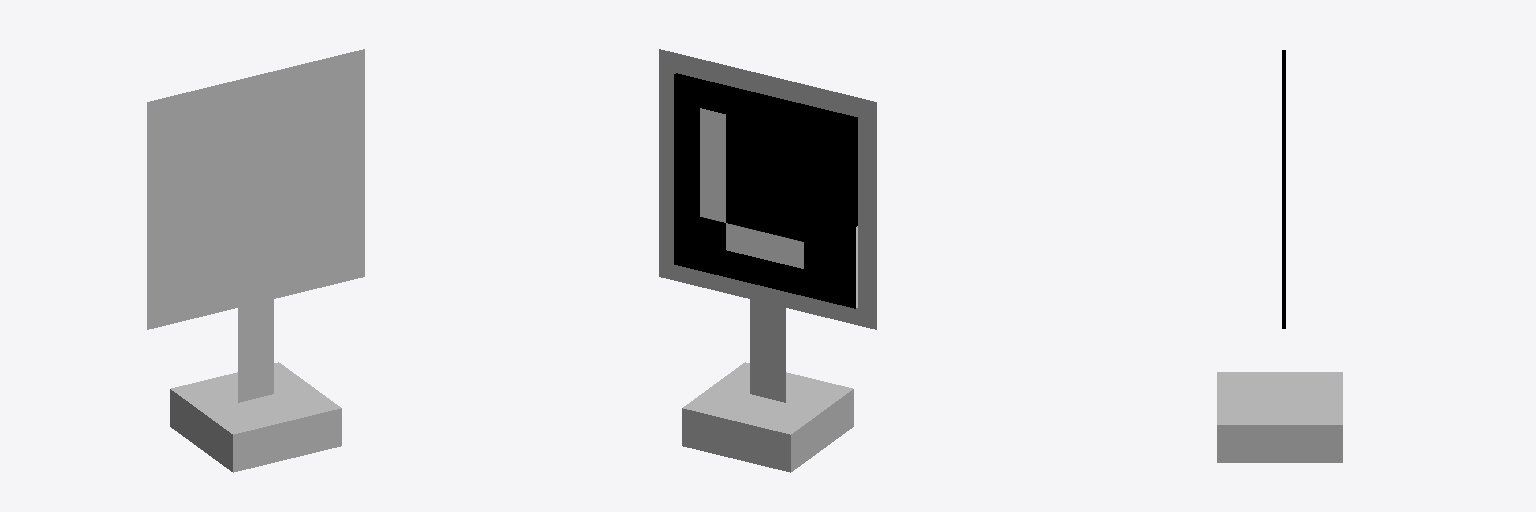
3 views of the same model, side by side, from view 1: azimuth 30°, elevation 25°; view 2: azimuth 150°, elevation 25°; view 3: azimuth 270°, elevation 25° (orthographic).
Visible parts, largest first — view 1: Plane.001, Cube.002_Cube.000, Cube.001_Cube.000; view 2: Cube_Cube.000, Plane.001, Cube.002_Cube.000, Cube.001_Cube.000; view 3: Cube.002_Cube.000, Cube_Cube.000.
Boxes of the visible parts, <box> form: Plane.001: <box>147,49,364,329</box>; Cube.002_Cube.000: <box>170,362,341,472</box>; Cube.001_Cube.000: <box>238,113,273,402</box>; Cube_Cube.000: <box>674,73,857,308</box>; Plane.001: <box>659,49,876,329</box>; Cube.002_Cube.000: <box>682,362,853,472</box>; Cube.001_Cube.000: <box>750,284,785,402</box>; Cube.002_Cube.000: <box>1217,372,1342,462</box>; Cube_Cube.000: <box>1282,50,1285,328</box>.
Bounding box in the file's own units: 0.6 × 0.95 × 0.3.
Materials: 2 (1 with a texture image).